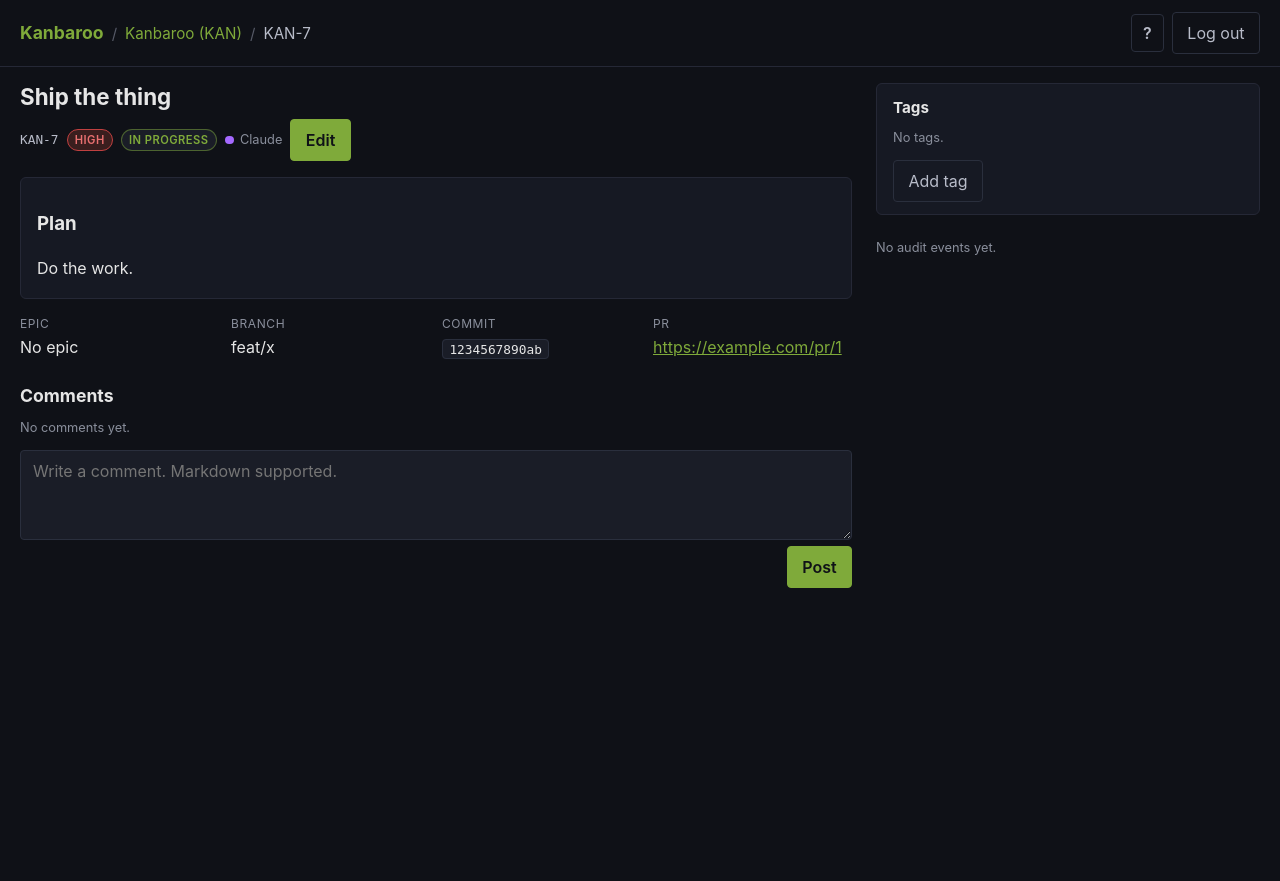
StoryDetail › clicking Edit then Save PATCHes the story and returns to display mode
Expected: the heading "Ship the thing" is shown, [20,83,171,110]
Click the button "Edit" at (321, 140), box [290,119,351,161]
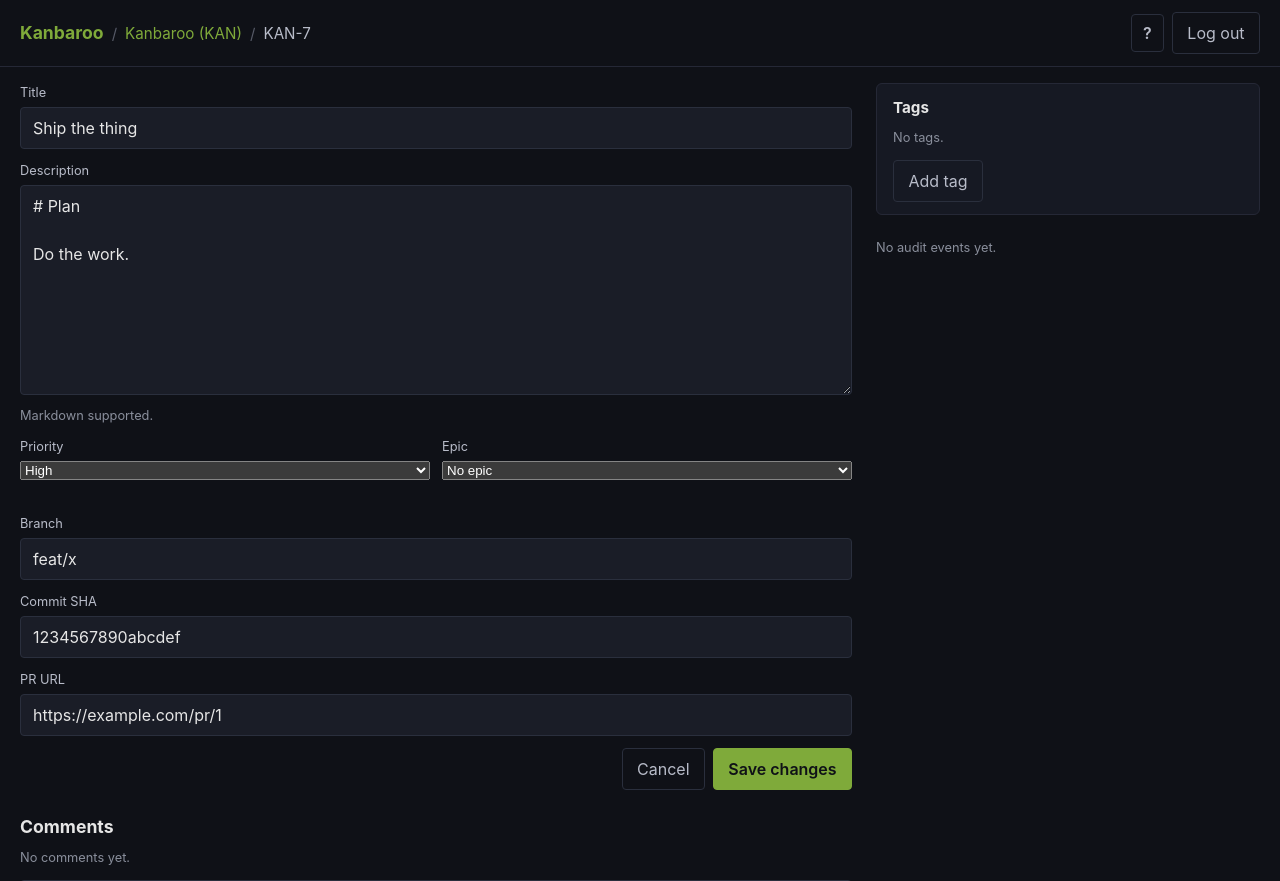
Expected: the field labelled "Title" holds "Ship the thing"
Replace the text in the field labelled "Title" with "Renamed" at (436, 128), box [20,107,852,149]
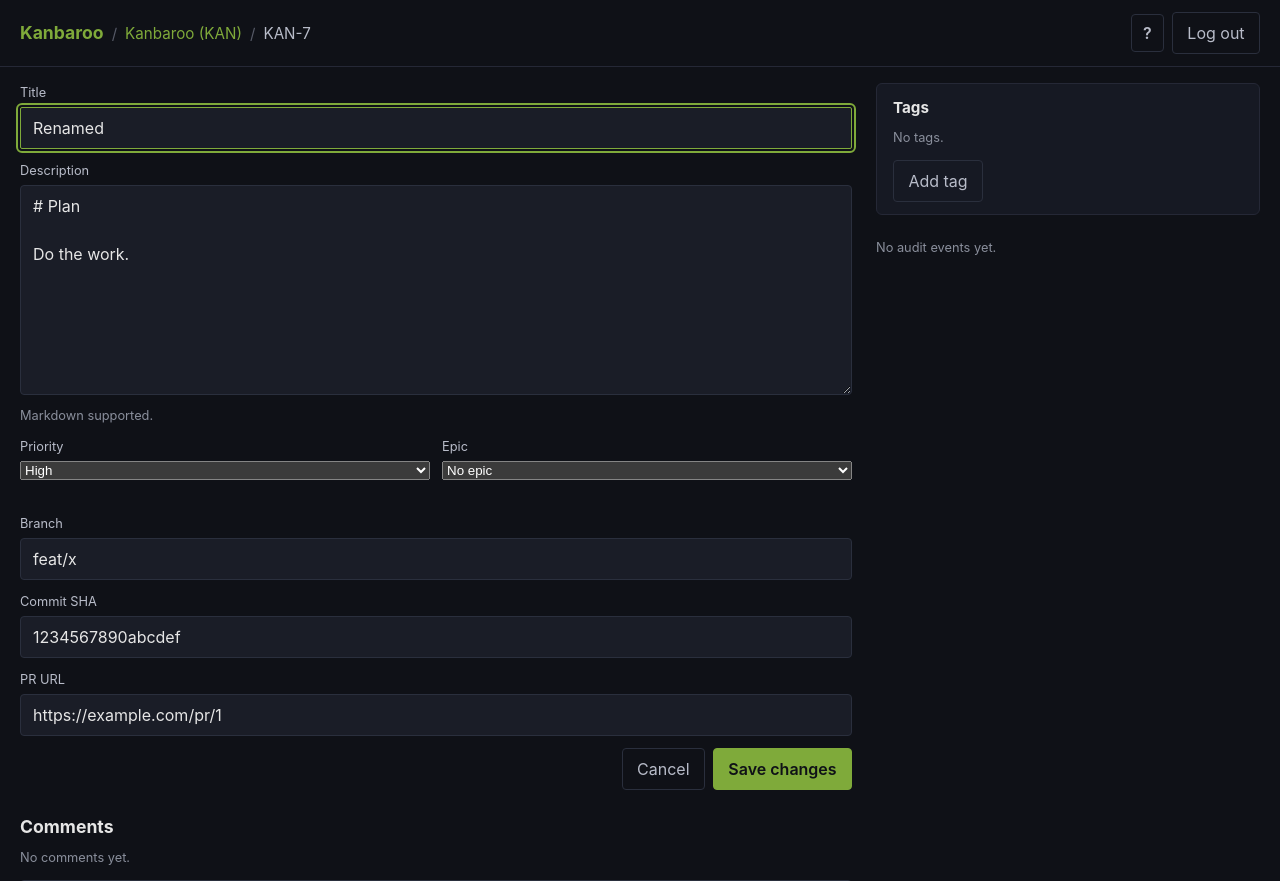
Click the button "Save changes" at (782, 769), box [713,748,852,790]
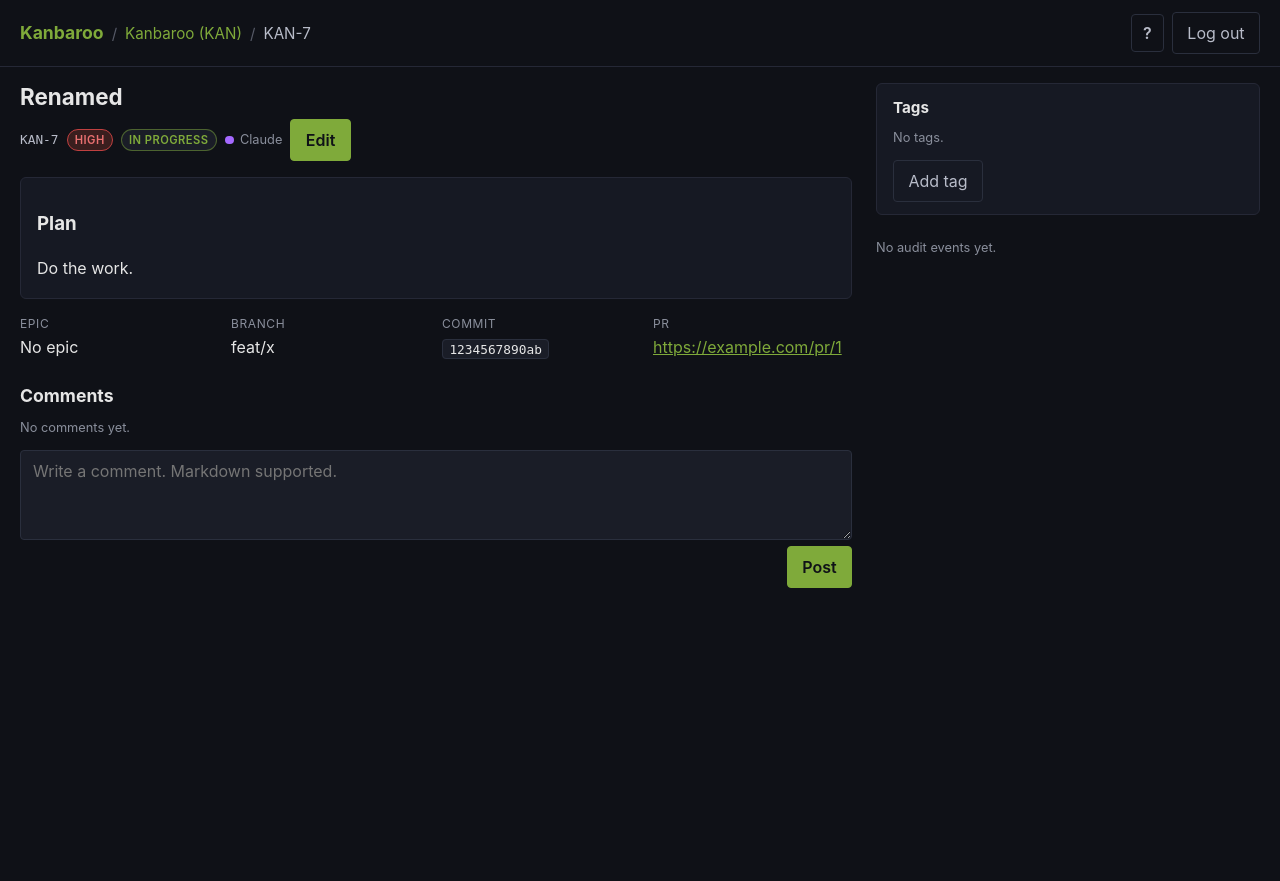
Expected: the heading "Renamed" is shown, [20,83,123,110]
